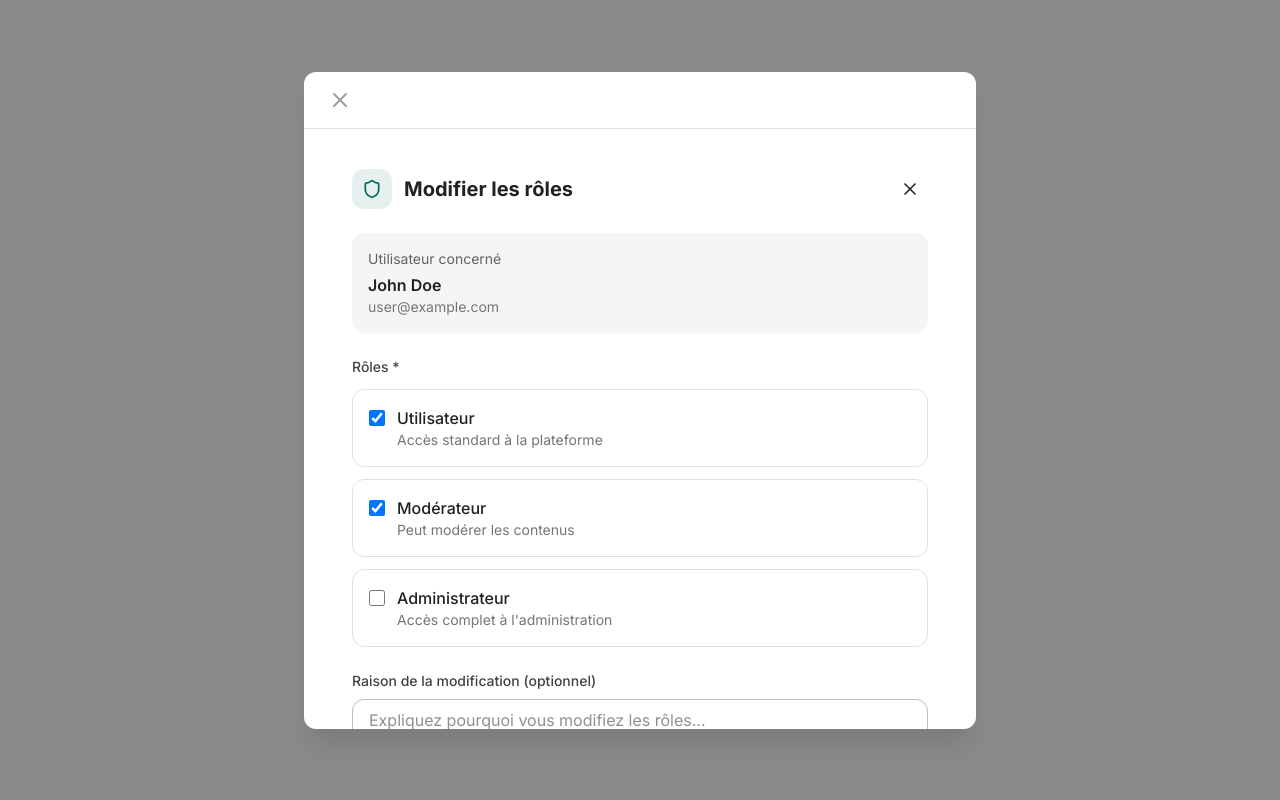
UpdateRolesModal - logique metier › refuse de retirer ROLE_USER (obligatoire pour tous les utilisateurs)
The image size is (1280, 800).
Click the checkbox labelled "Utilisateur Accès standard à la plateforme" at (377, 418), box [369,410,385,426]
(page scrolled)
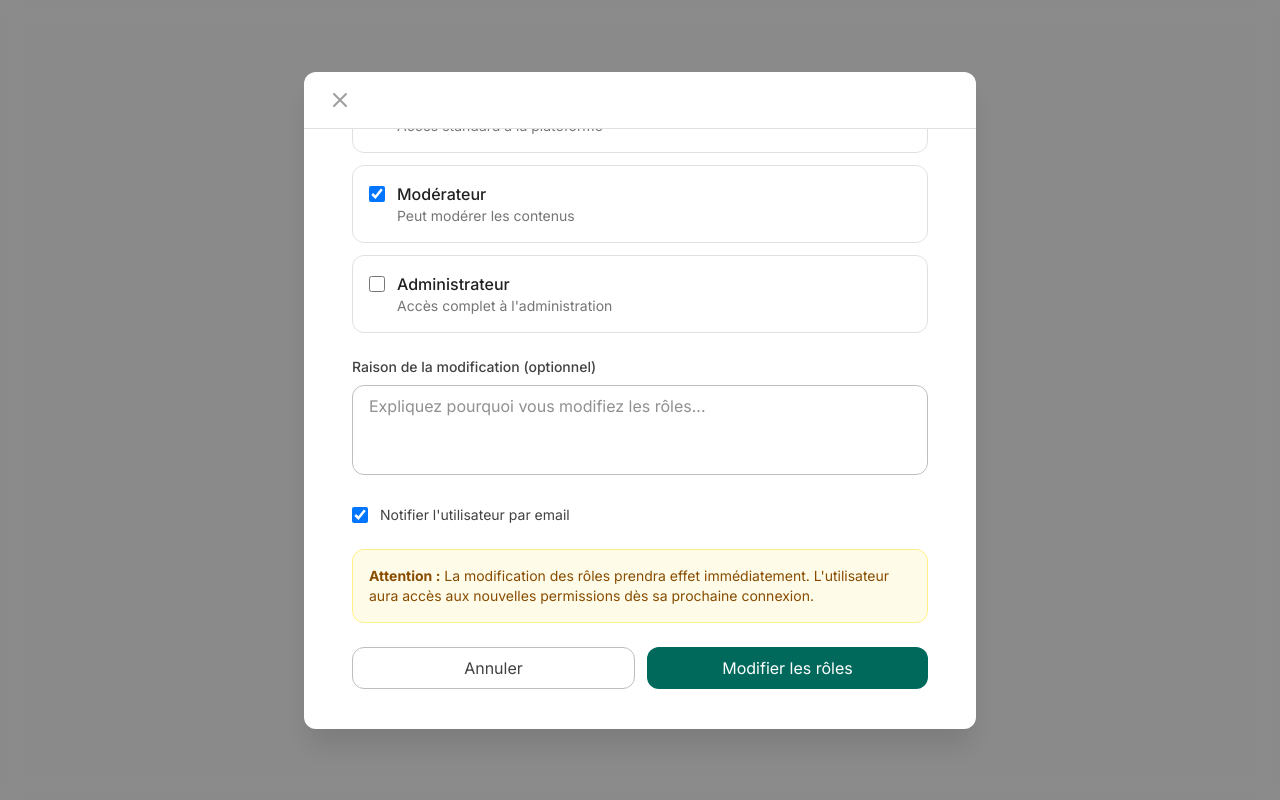
Click the button "Modifier les rôles" at (788, 668), box [647,646,928,688]
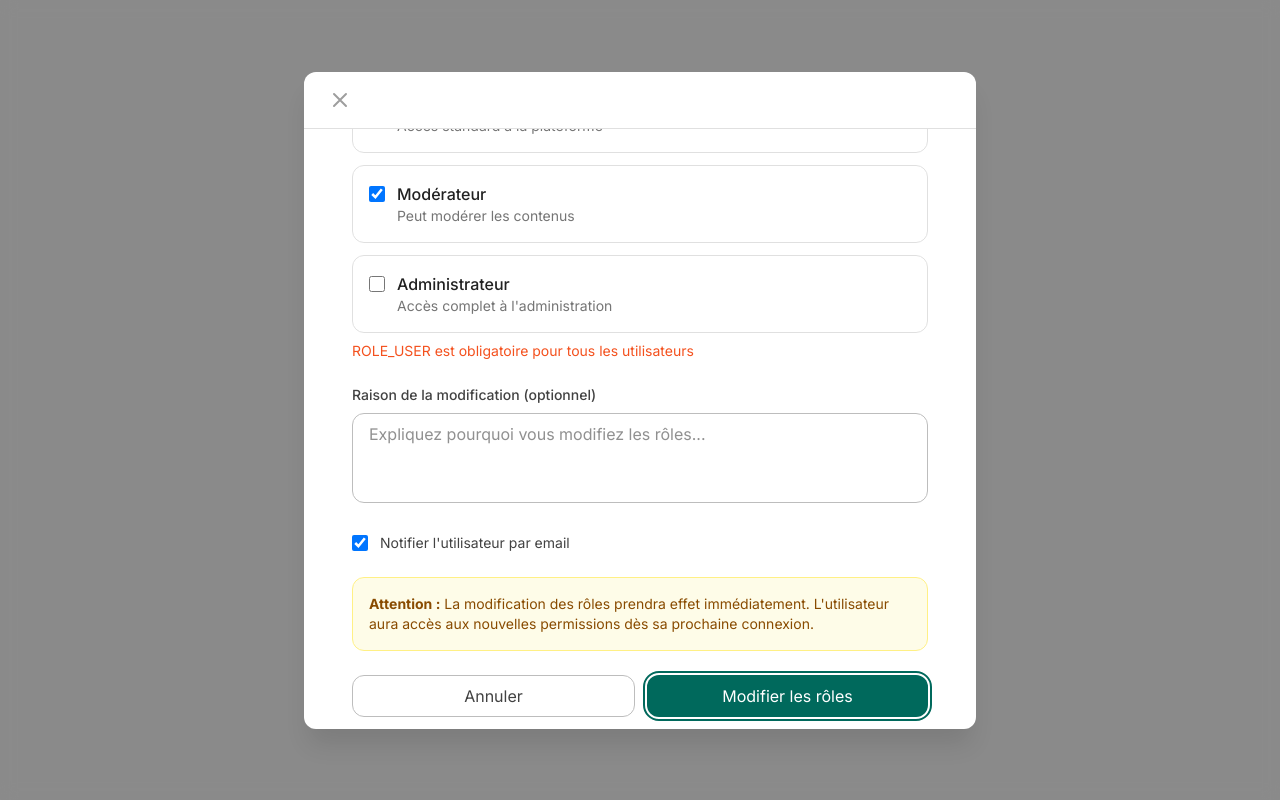
Check: the text "ROLE_USER est obligatoire pour tous les utilisateurs" is shown, box [352,342,694,358]
